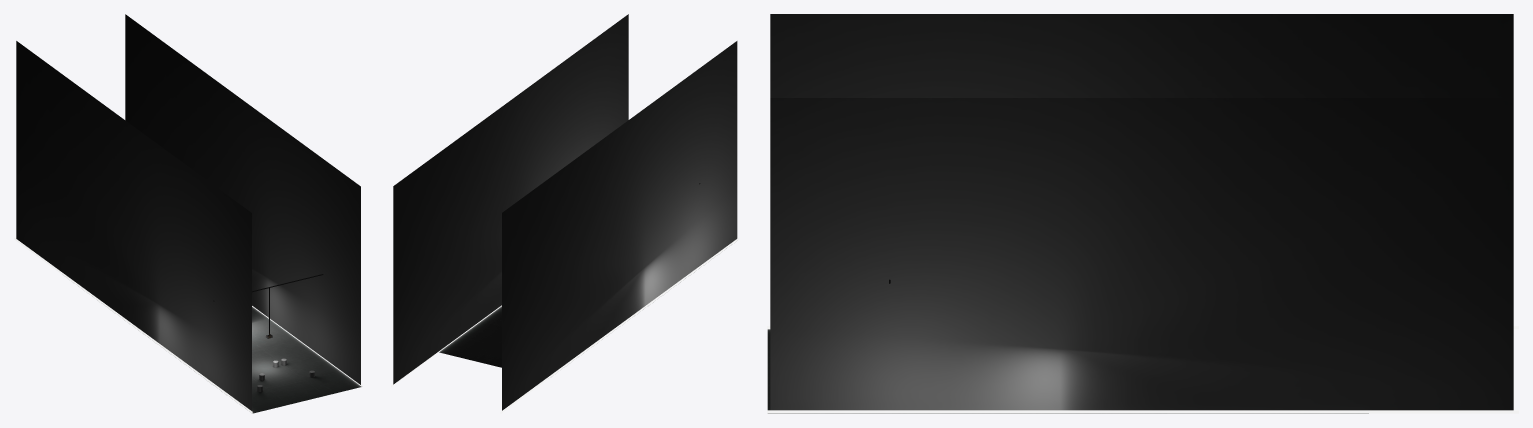
3 renders of one model, left to right at view 1: azimuth 30°, elevation 25°; view 2: azimuth 150°, elevation 25°; view 3: azimuth 270°, elevation 25°, orthographic. The views are drawn at different scales.
Visible parts, largest first — view 1: Cylinder.007; view 2: Cylinder.007; view 3: Cylinder.007.
Boxes of the visible parts, x1,y1,x2,y2 form: Cylinder.007: (14, 14, 362, 413); Cylinder.007: (391, 14, 738, 413); Cylinder.007: (767, 14, 1518, 413).
Bounding box in the file's own units: 1.38 × 2.33 × 5.03.
Materials: 7 (5 with a texture image).
